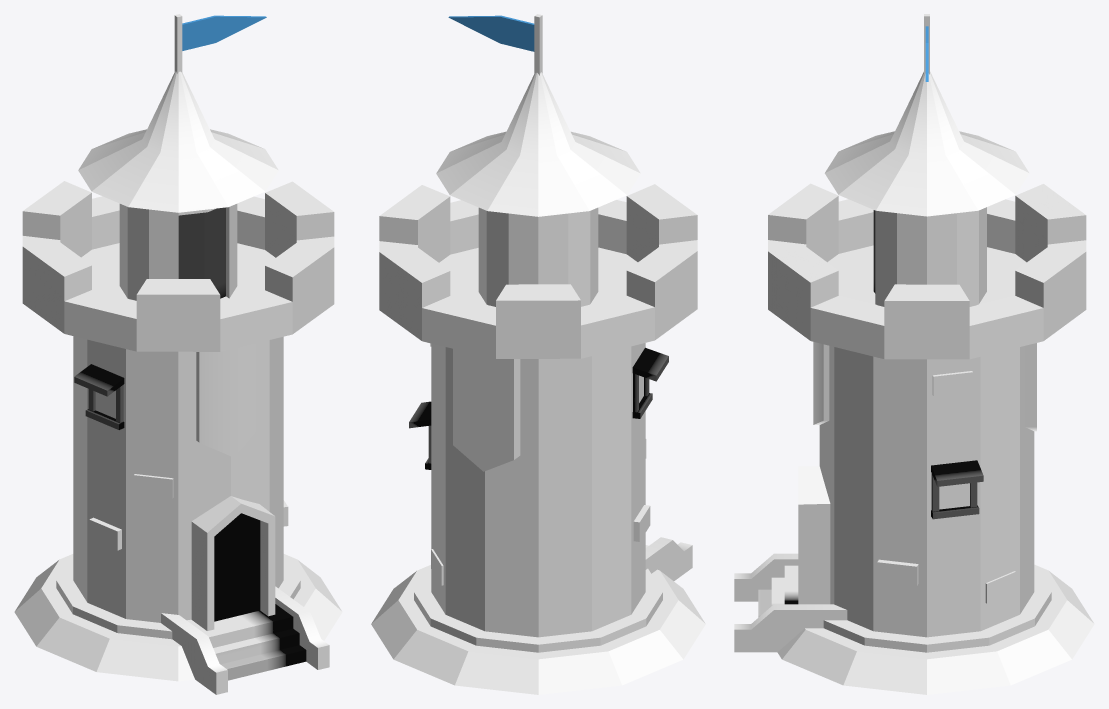
File: TowerV2.fbx
3 renders of one model, left to right at view 1: azimuth 30°, elevation 25°; view 2: azimuth 150°, elevation 25°; view 3: azimuth 270°, elevation 25°, orthographic. The views are drawn at different scales.
Visible parts, largest first — view 1: polySurface1258, polySurface1200, polySurface1201; view 2: polySurface1258, polySurface1200, polySurface1201; view 3: polySurface1258.
Boxes of the visible parts, bbox=[...] form: polySurface1258: bbox=[14, 14, 342, 694]; polySurface1200: bbox=[182, 16, 215, 50]; polySurface1201: bbox=[214, 15, 266, 42]; polySurface1258: bbox=[371, 14, 705, 694]; polySurface1200: bbox=[500, 16, 534, 51]; polySurface1201: bbox=[448, 15, 501, 43]; polySurface1258: bbox=[734, 14, 1094, 694].
Size of the model in its own units: 2.54 by 5.1 by 2.73.
